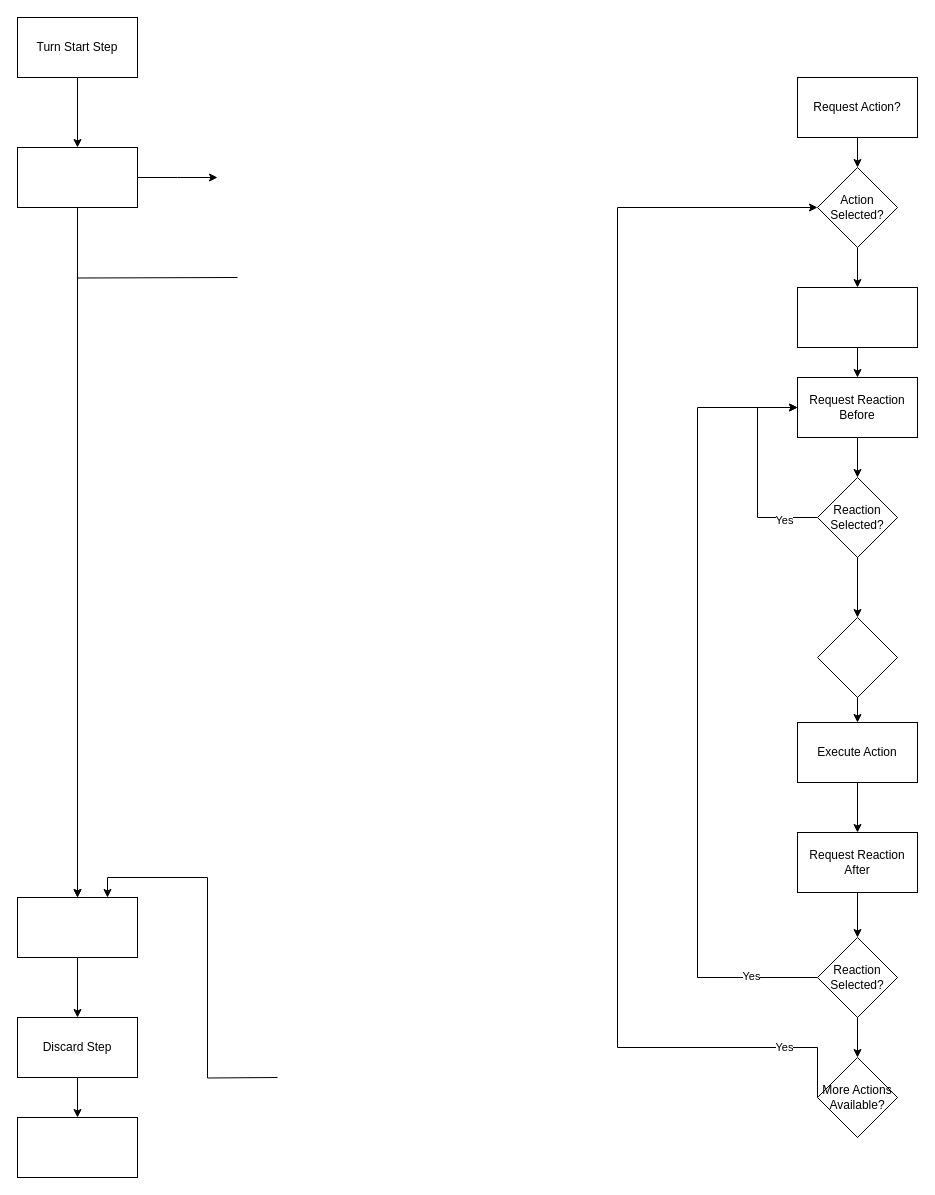
The diagram is 935 pixels wide and 1195 high, and some of its shapes have lost their labels. The box of each missing label's shape, as (x1, y1, x2, y2) in pixels:
Block Action?: (816, 616, 898, 698)
Draw Step: (16, 1116, 138, 1178)
Play Card Step: (16, 146, 138, 208)
Save other actions: (796, 286, 918, 348)
Supply Step: (16, 896, 138, 958)
